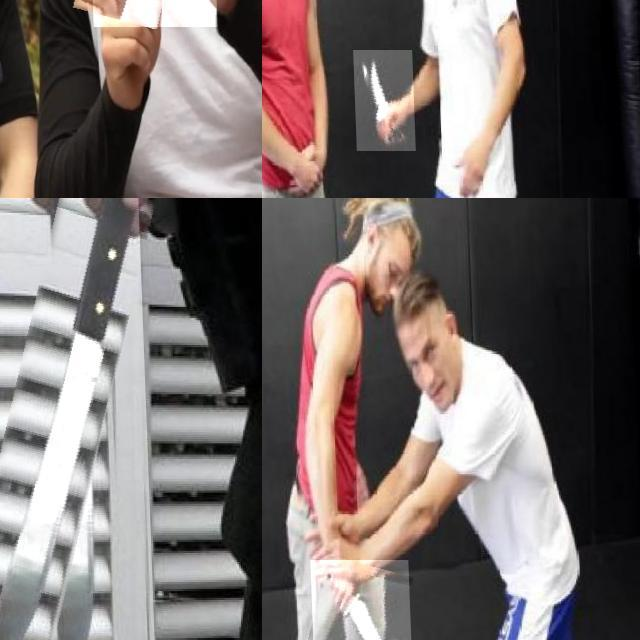-: (0, 198, 151, 640), (80, 0, 214, 157), (307, 560, 407, 640), (351, 50, 413, 151)
